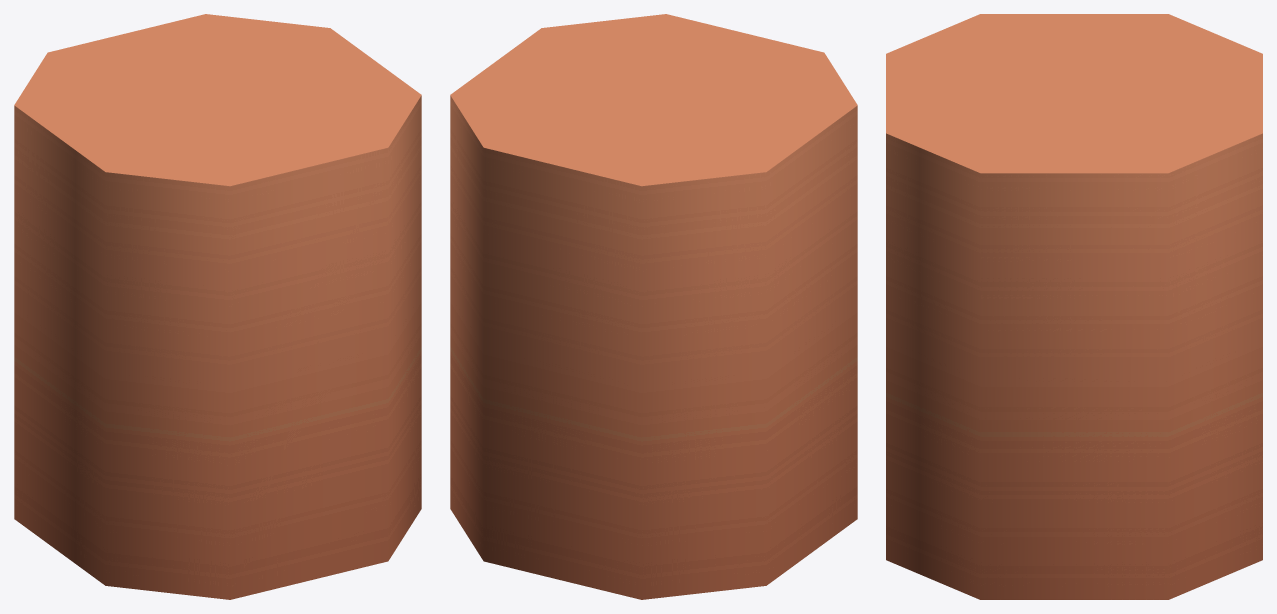
Rendered from support-low.glb.
3 renders of one model, left to right at view 1: azimuth 30°, elevation 25°; view 2: azimuth 150°, elevation 25°; view 3: azimuth 270°, elevation 25°, orthographic. The views are drawn at different scales.
Visible parts, largest first — view 1: support-low; view 2: support-low; view 3: support-low.
Boxes of the visible parts, bbox=[...] form: support-low: bbox=[14, 14, 421, 599]; support-low: bbox=[450, 14, 857, 599]; support-low: bbox=[886, 14, 1262, 599].
Size of the model in its own units: 0.4 by 0.5 by 0.4.
Materials: 1 (1 with a texture image).
